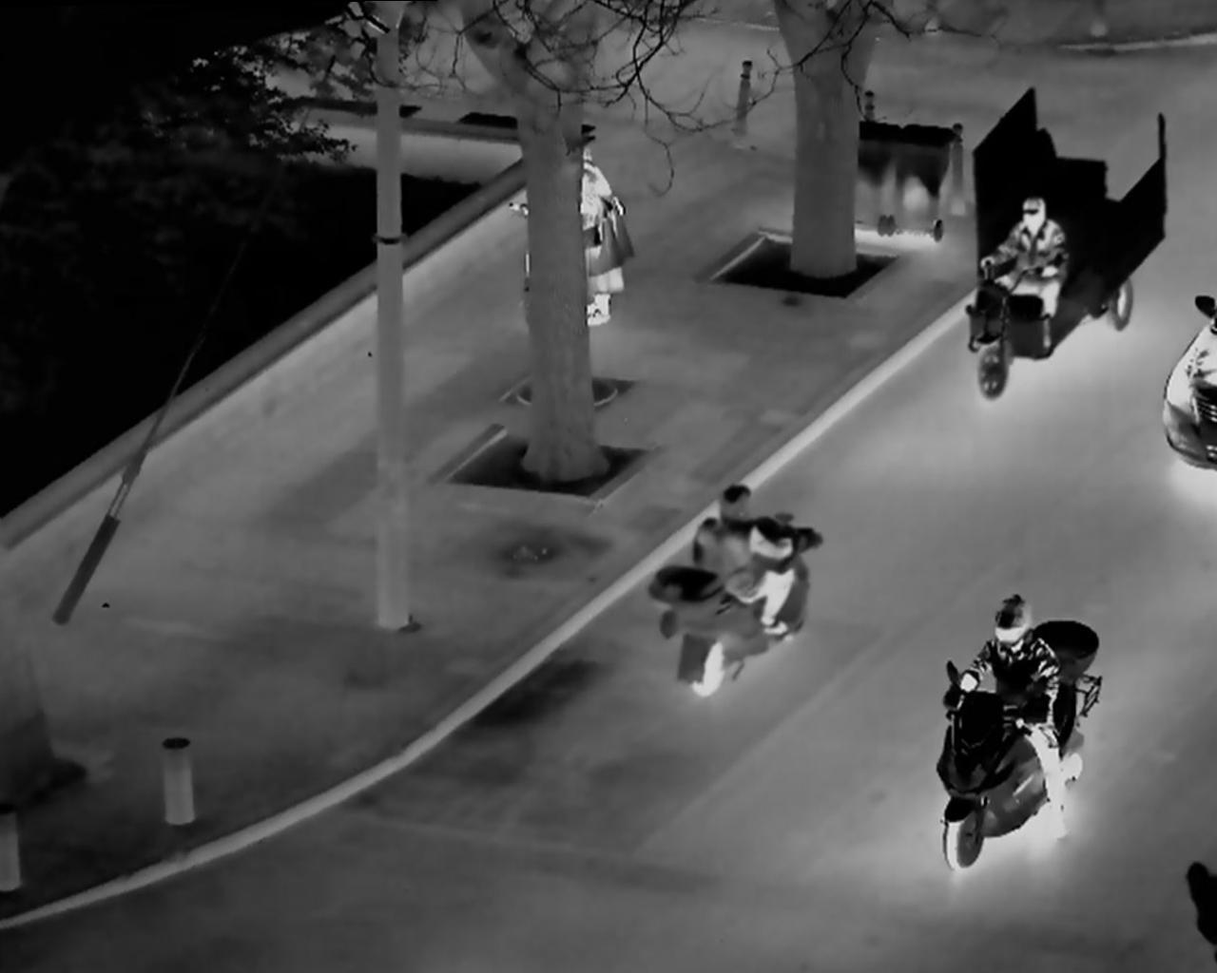person: (939, 579, 1074, 892), (660, 473, 808, 685), (976, 187, 1074, 352), (570, 141, 637, 334)
